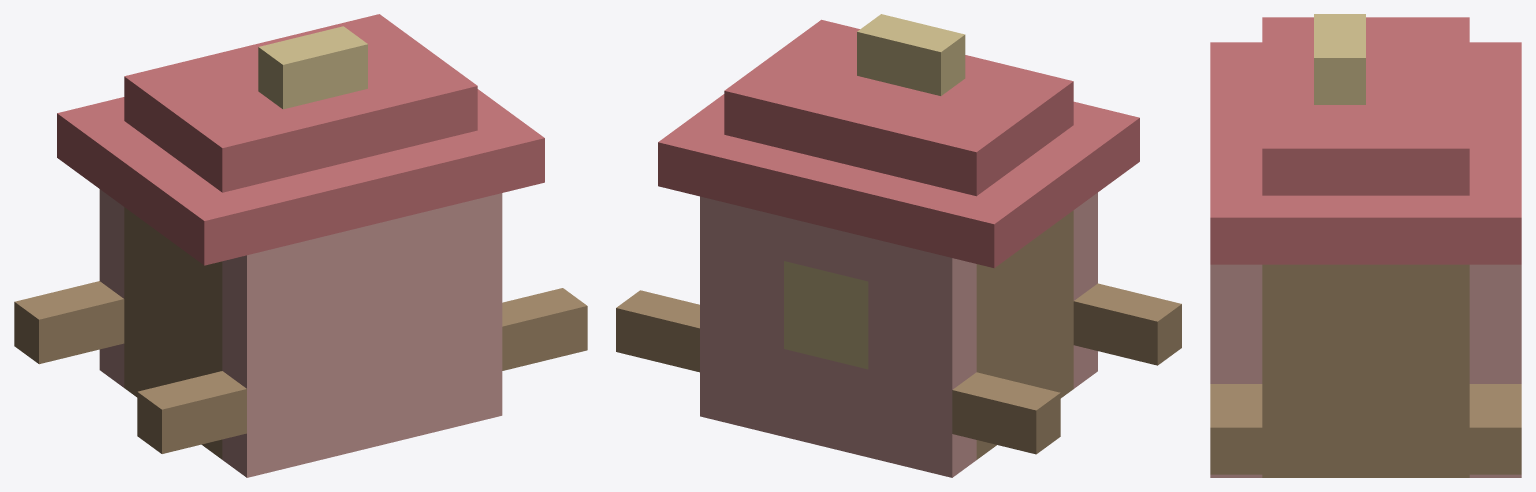
The model's file is palanquin.glb.
The picture shows the model from 3 angles, left to right: view 1: azimuth 30°, elevation 25°; view 2: azimuth 150°, elevation 25°; view 3: azimuth 270°, elevation 25°; orthographic projection. The views are drawn at different scales.
Parts seen in each view (by area): view 1: palanquin; view 2: palanquin; view 3: palanquin.
Boxes of the visible parts, left/top/right/bottom form: palanquin: left=14, top=14, right=587, bottom=477; palanquin: left=616, top=14, right=1181, bottom=477; palanquin: left=1210, top=14, right=1521, bottom=477.
Bounding box in the file's own units: 1 × 0.8 × 0.6.
